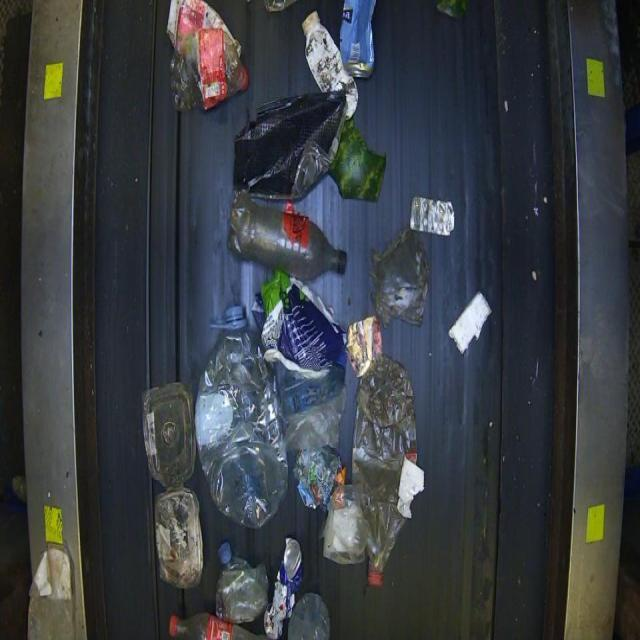cups: (226, 189, 347, 282)
other-trash: (142, 1, 432, 637)
trashbin: (12, 0, 633, 639)
